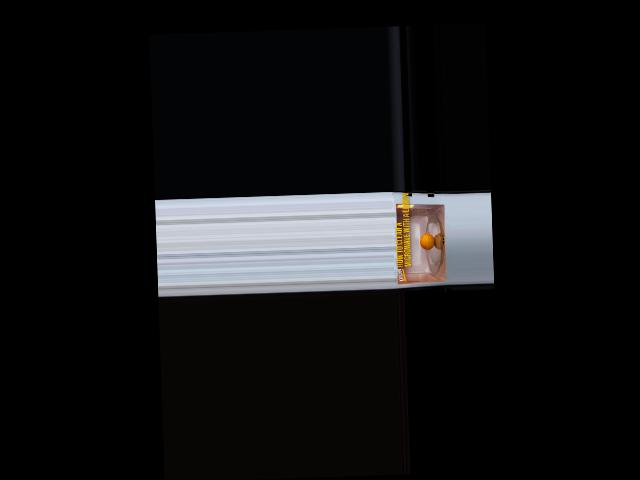lemon: (417, 224, 437, 251)
